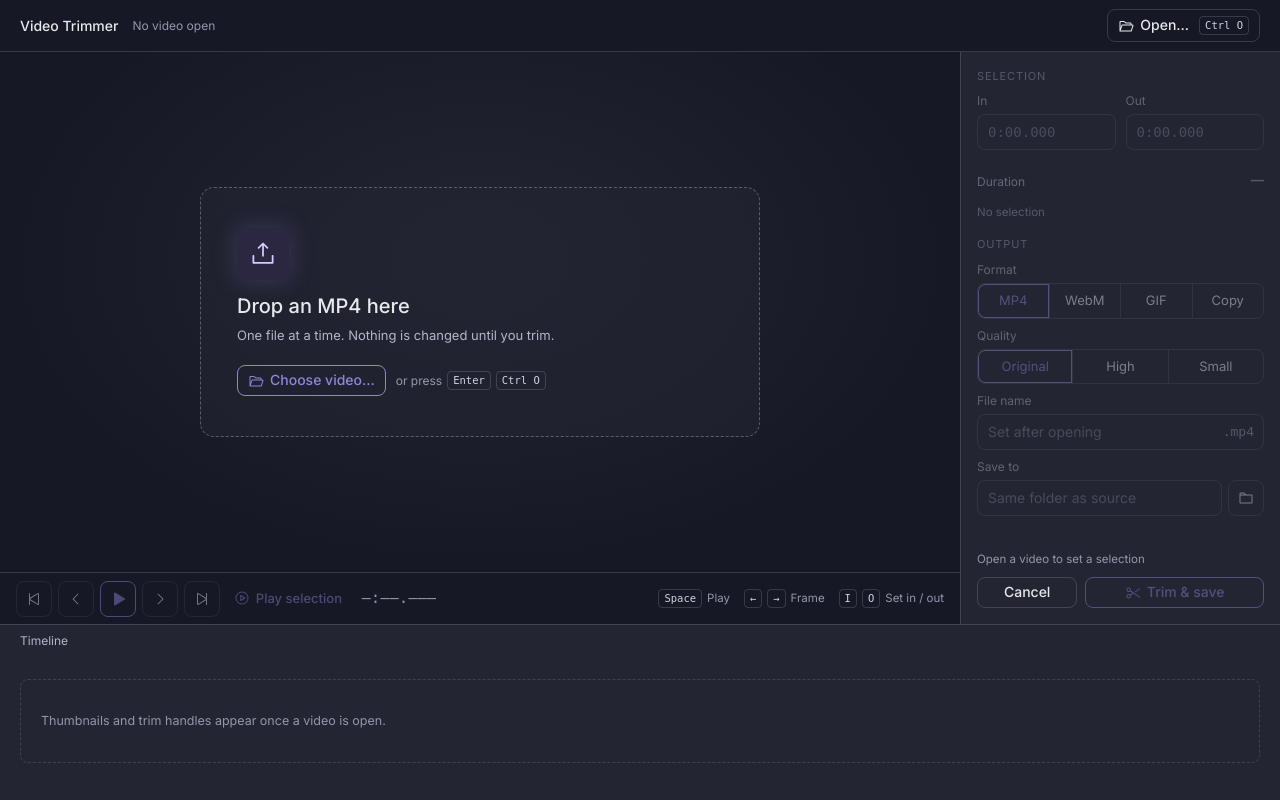
Test: video loading shell › shows completed, active, and pending inspection steps
This screenshot has width=1280, height=800.
Click the button "Choose video…". click: point(311, 381)
box: [237,365,386,396]
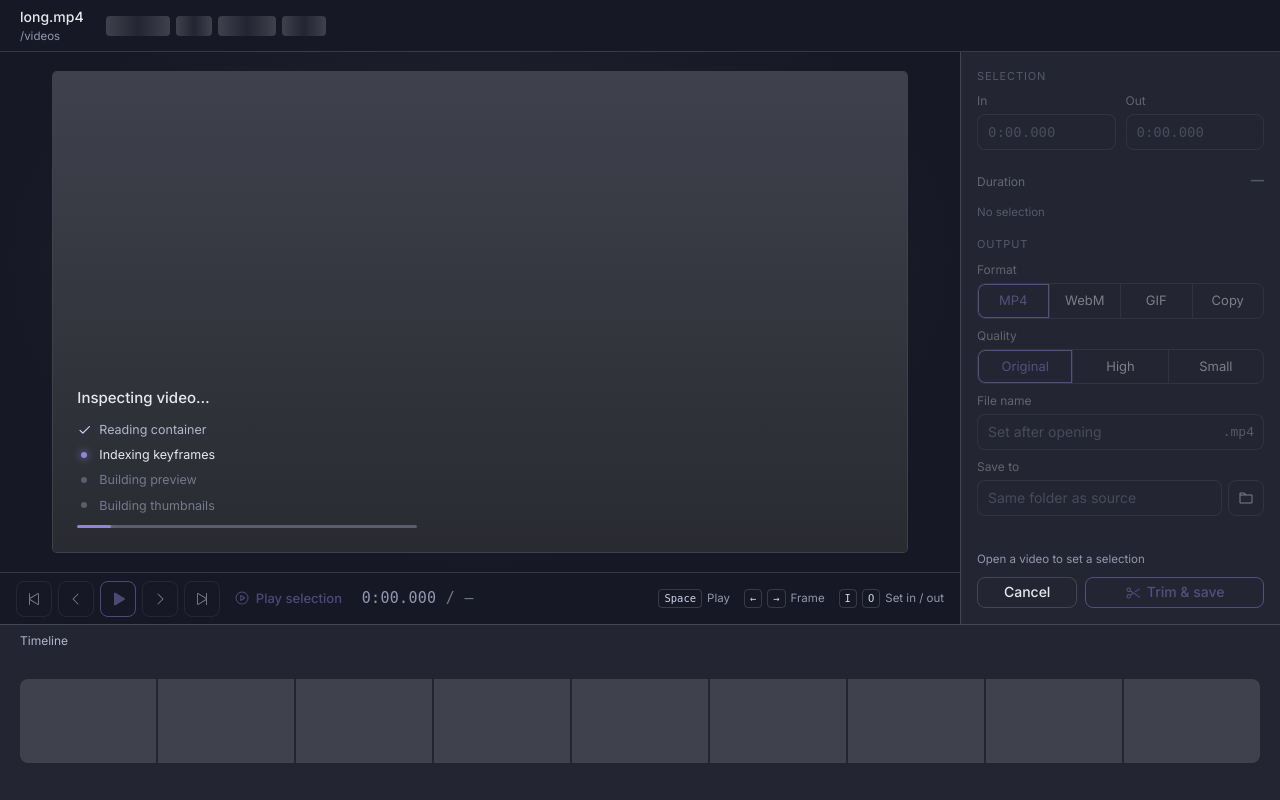
Now the text "Inspecting video…" is shown, box [77,388,210,407]
Now the list item "Indexing keyframes" is shown, box [81,447,215,462]
